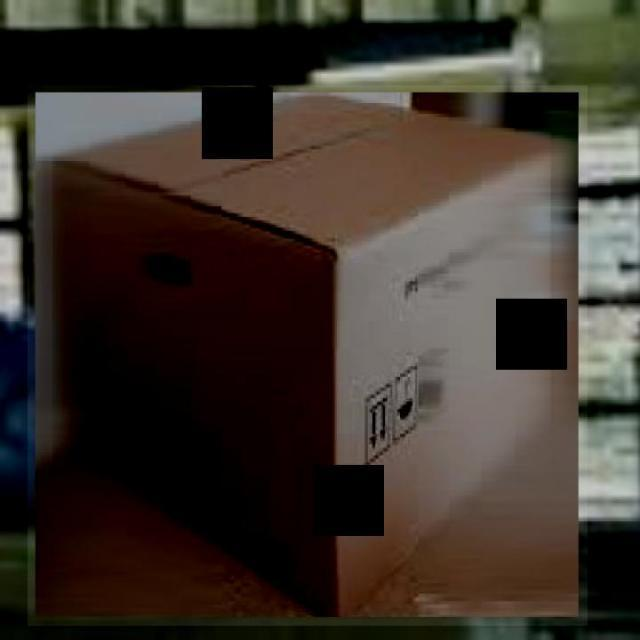box: (28, 85, 588, 626)
